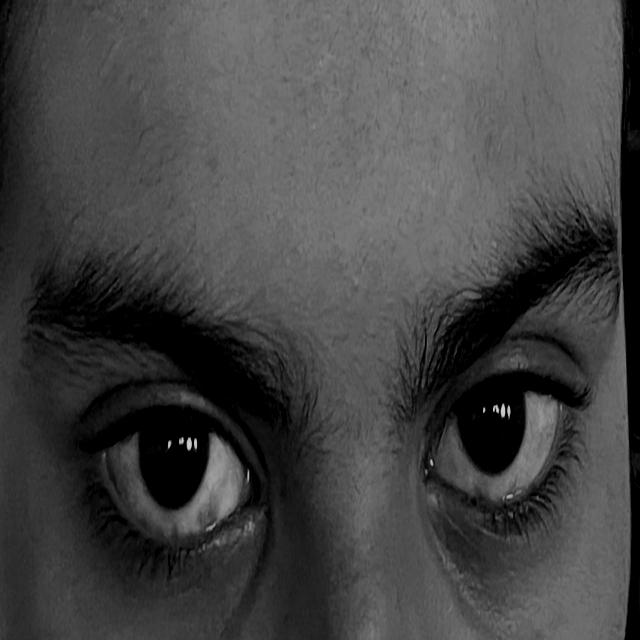real: (32, 250, 616, 584)
